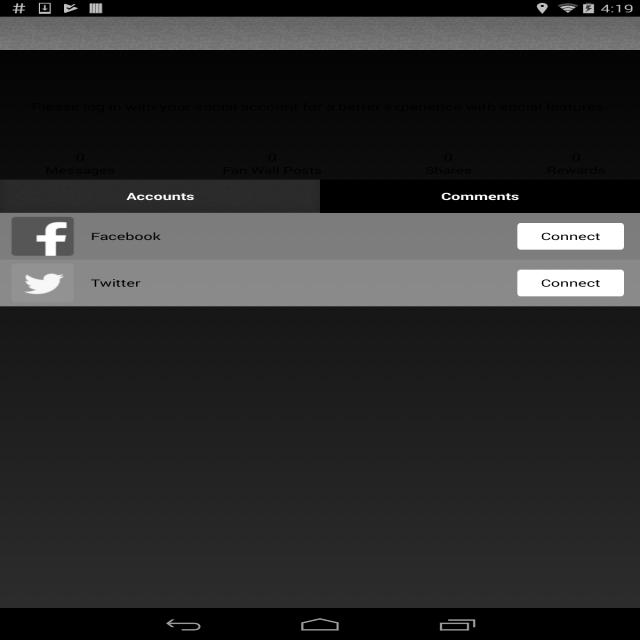Button: (506, 263, 632, 299), (508, 218, 633, 252)
ImageView: (12, 216, 74, 255), (13, 262, 72, 301)
TextView: (431, 188, 534, 209), (120, 187, 206, 206), (85, 230, 173, 244), (79, 272, 157, 286)
